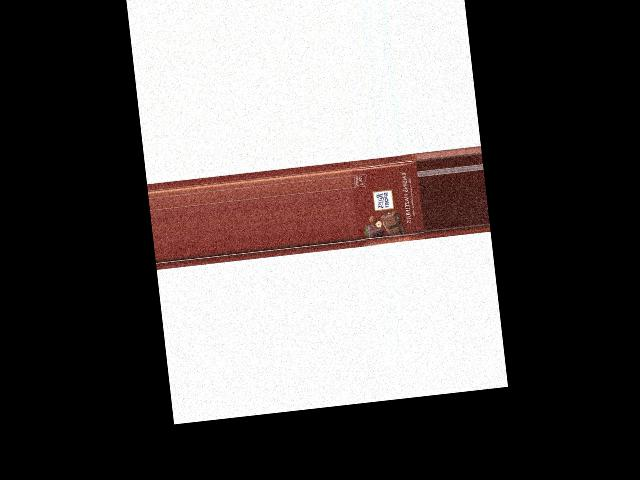chocolate: (349, 153, 426, 248)
